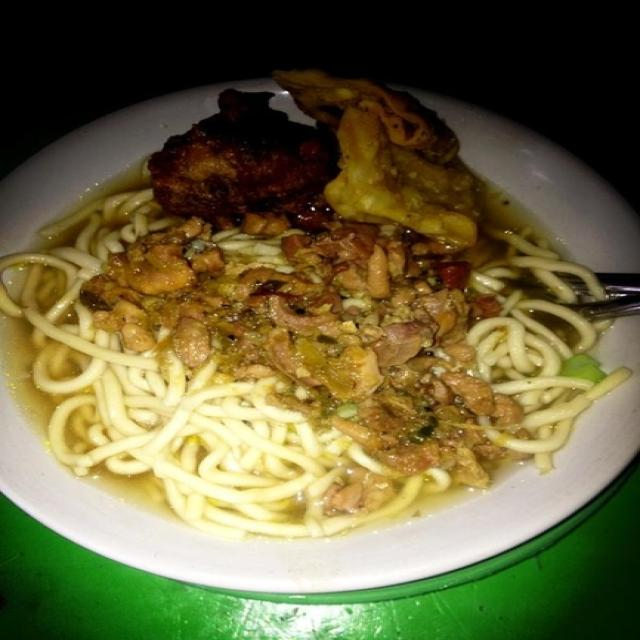面条主食: (19, 44, 615, 594)
